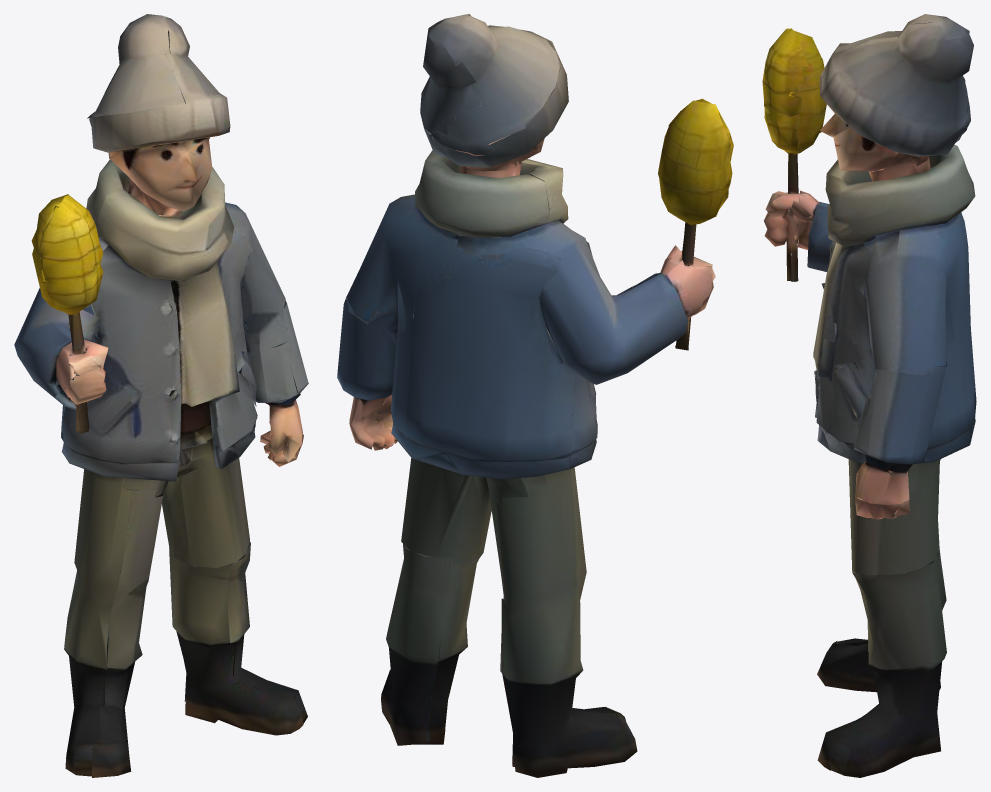
The model's file is npc_mang_jagung.glb.
3 views of the same model, side by side, from view 1: azimuth 30°, elevation 25°; view 2: azimuth 150°, elevation 25°; view 3: azimuth 270°, elevation 25° (orthographic). The views are drawn at different scales.
Parts seen in each view (by area): view 1: torso, leg_r, leg_l; view 2: torso, leg_r, leg_l; view 3: torso, leg_l, leg_r.
Boxes of the visible parts, box(x1,y1,x2,y2) form: torso: box(14, 14, 307, 440); leg_r: box(61, 385, 198, 777); leg_l: box(128, 366, 308, 735); torso: box(337, 14, 733, 438); leg_r: box(444, 386, 637, 777); leg_l: box(337, 370, 491, 745); torso: box(762, 14, 975, 456); leg_l: box(816, 392, 975, 777); leg_r: box(814, 362, 976, 692).
Size of the model in its own units: 0.7889 by 1.67 by 0.4586.
Materials: 1 (1 with a texture image).
